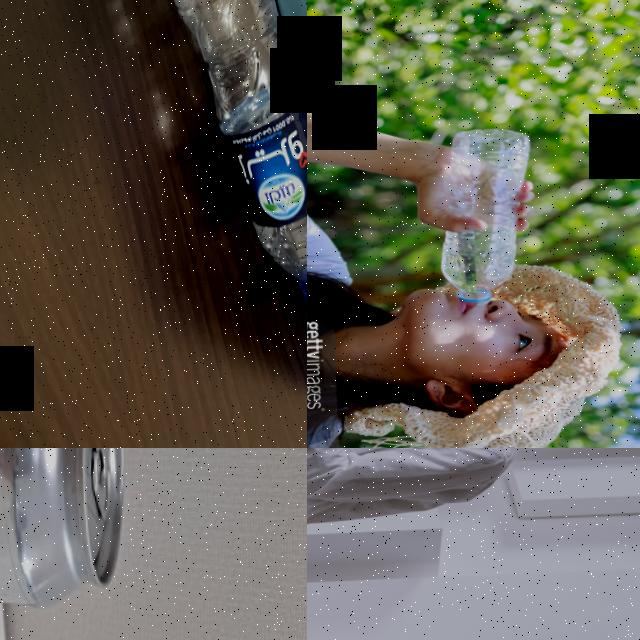bottle: (155, 0, 307, 333), (431, 125, 538, 302)
can: (0, 448, 127, 619)
